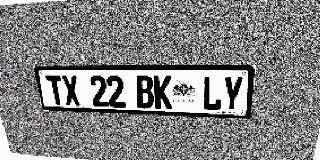2: (89, 75, 109, 107), (106, 75, 125, 107)
B: (135, 75, 154, 108)
K: (153, 75, 172, 109)
L: (202, 76, 223, 111)
T: (45, 75, 66, 105)
X: (61, 75, 81, 106)
Y: (221, 76, 244, 111)
